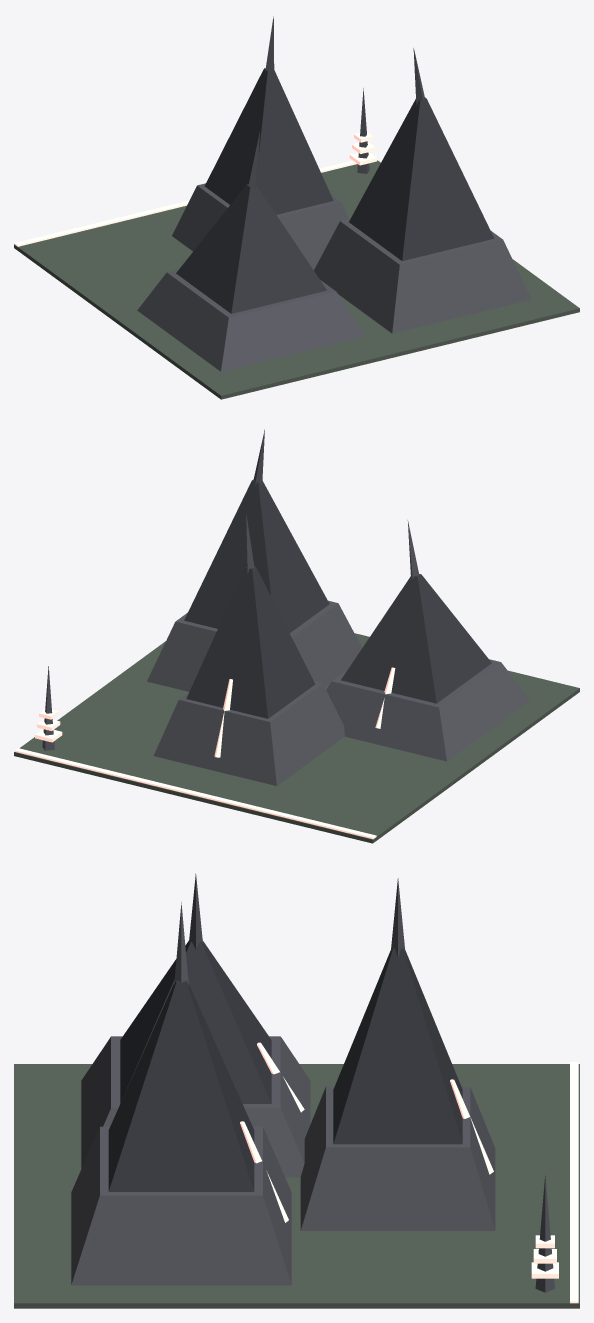
Rendered from zone_low_1_t3.glb.
3 renders of one model, top to bottom at view 1: azimuth 30°, elevation 25°; view 2: azimuth 150°, elevation 25°; view 3: azimuth 270°, elevation 25°, orthographic. The views are drawn at different scales.
Visible parts, largest first — view 1: zone_low_1_t3, detail; view 2: zone_low_1_t3, detail; view 3: zone_low_1_t3, detail.
Boxes of the visible parts, box(x1,y1,x2,y2) form: zone_low_1_t3: box(14, 16, 579, 399); detail: box(14, 88, 377, 246); zone_low_1_t3: box(14, 429, 579, 843); detail: box(14, 666, 376, 839); zone_low_1_t3: box(14, 873, 579, 1308); detail: box(531, 1062, 578, 1303).
Size of the model in its own units: 19.6 by 12.87 by 19.6.
